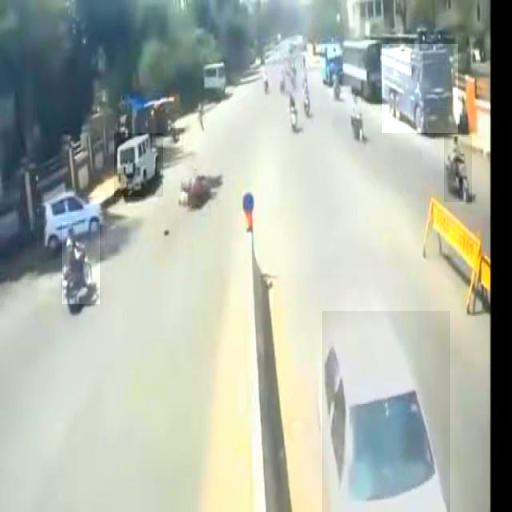小汽车: (322, 311, 450, 512), (382, 44, 458, 133), (44, 192, 105, 246), (114, 134, 163, 198)
自行车: (62, 222, 100, 304), (444, 136, 472, 202)
